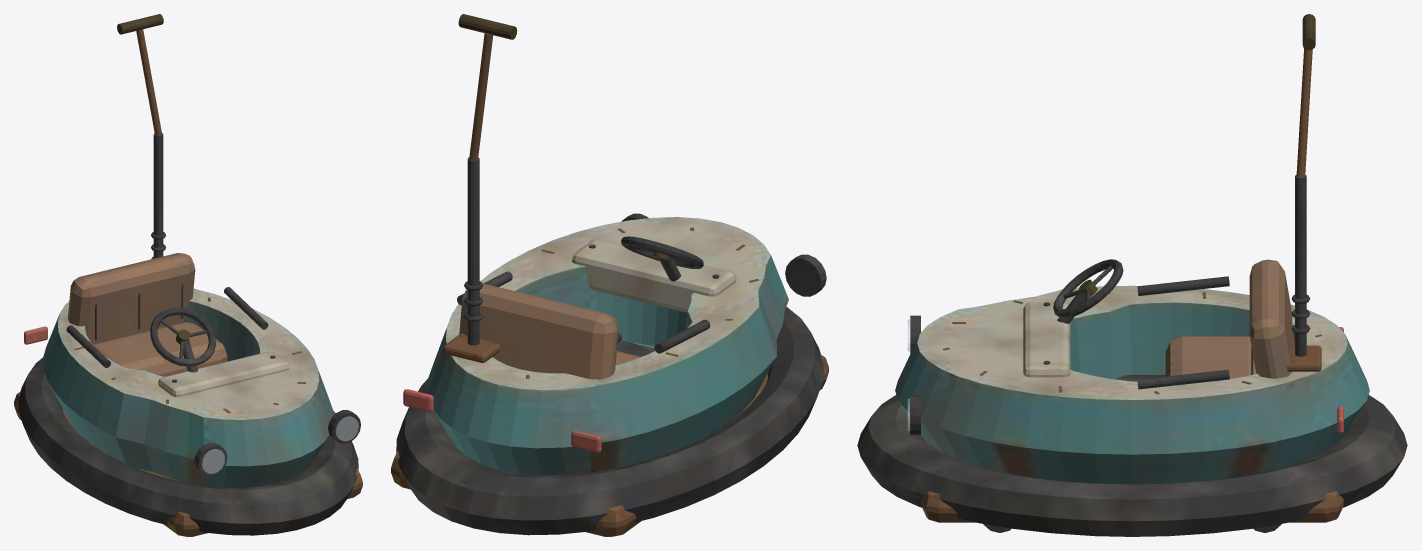
The model's file is C07_bumper_car.glb.
The picture shows the model from 3 angles, left to right: view 1: azimuth 30°, elevation 25°; view 2: azimuth 150°, elevation 25°; view 3: azimuth 270°, elevation 25°; orthographic projection. The views are drawn at different scales.
Parts seen in each view (by area): view 1: Heavy continuous impact bumper; view 2: Heavy continuous impact bumper; view 3: Heavy continuous impact bumper.
Part boxes in pixels (<box>): Heavy continuous impact bumper: <box>14,14,362,536</box>; Heavy continuous impact bumper: <box>391,14,828,536</box>; Heavy continuous impact bumper: <box>857,14,1407,536</box>.
Size of the model in its own units: 1.3 by 1.92 by 2.
9 materials, 8 textured.
